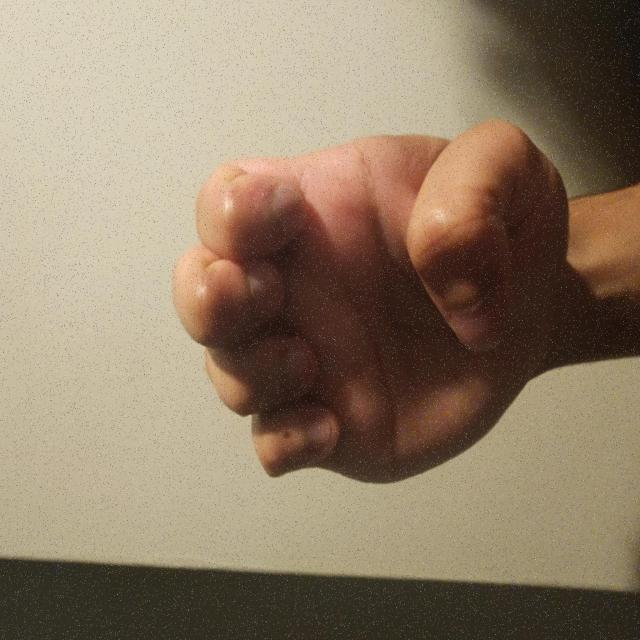E: (110, 228, 398, 640)
